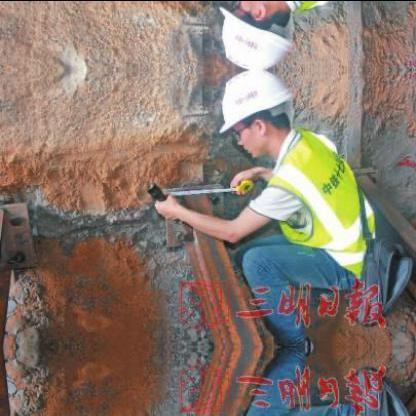Helmet: (212, 68, 298, 160), (211, 0, 299, 69)
